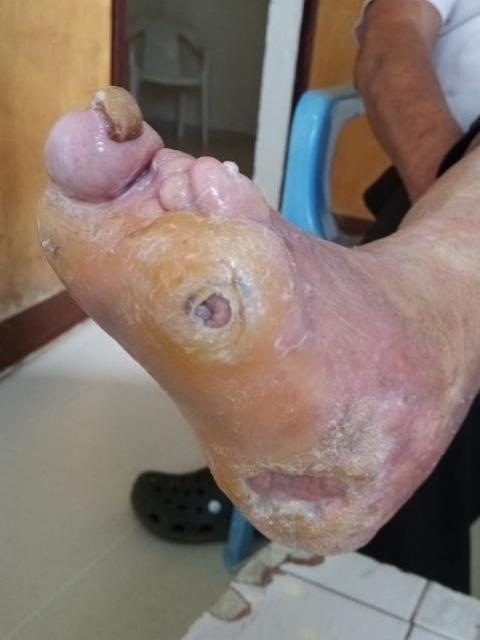wound: (242, 464, 355, 523), (161, 278, 243, 358)
